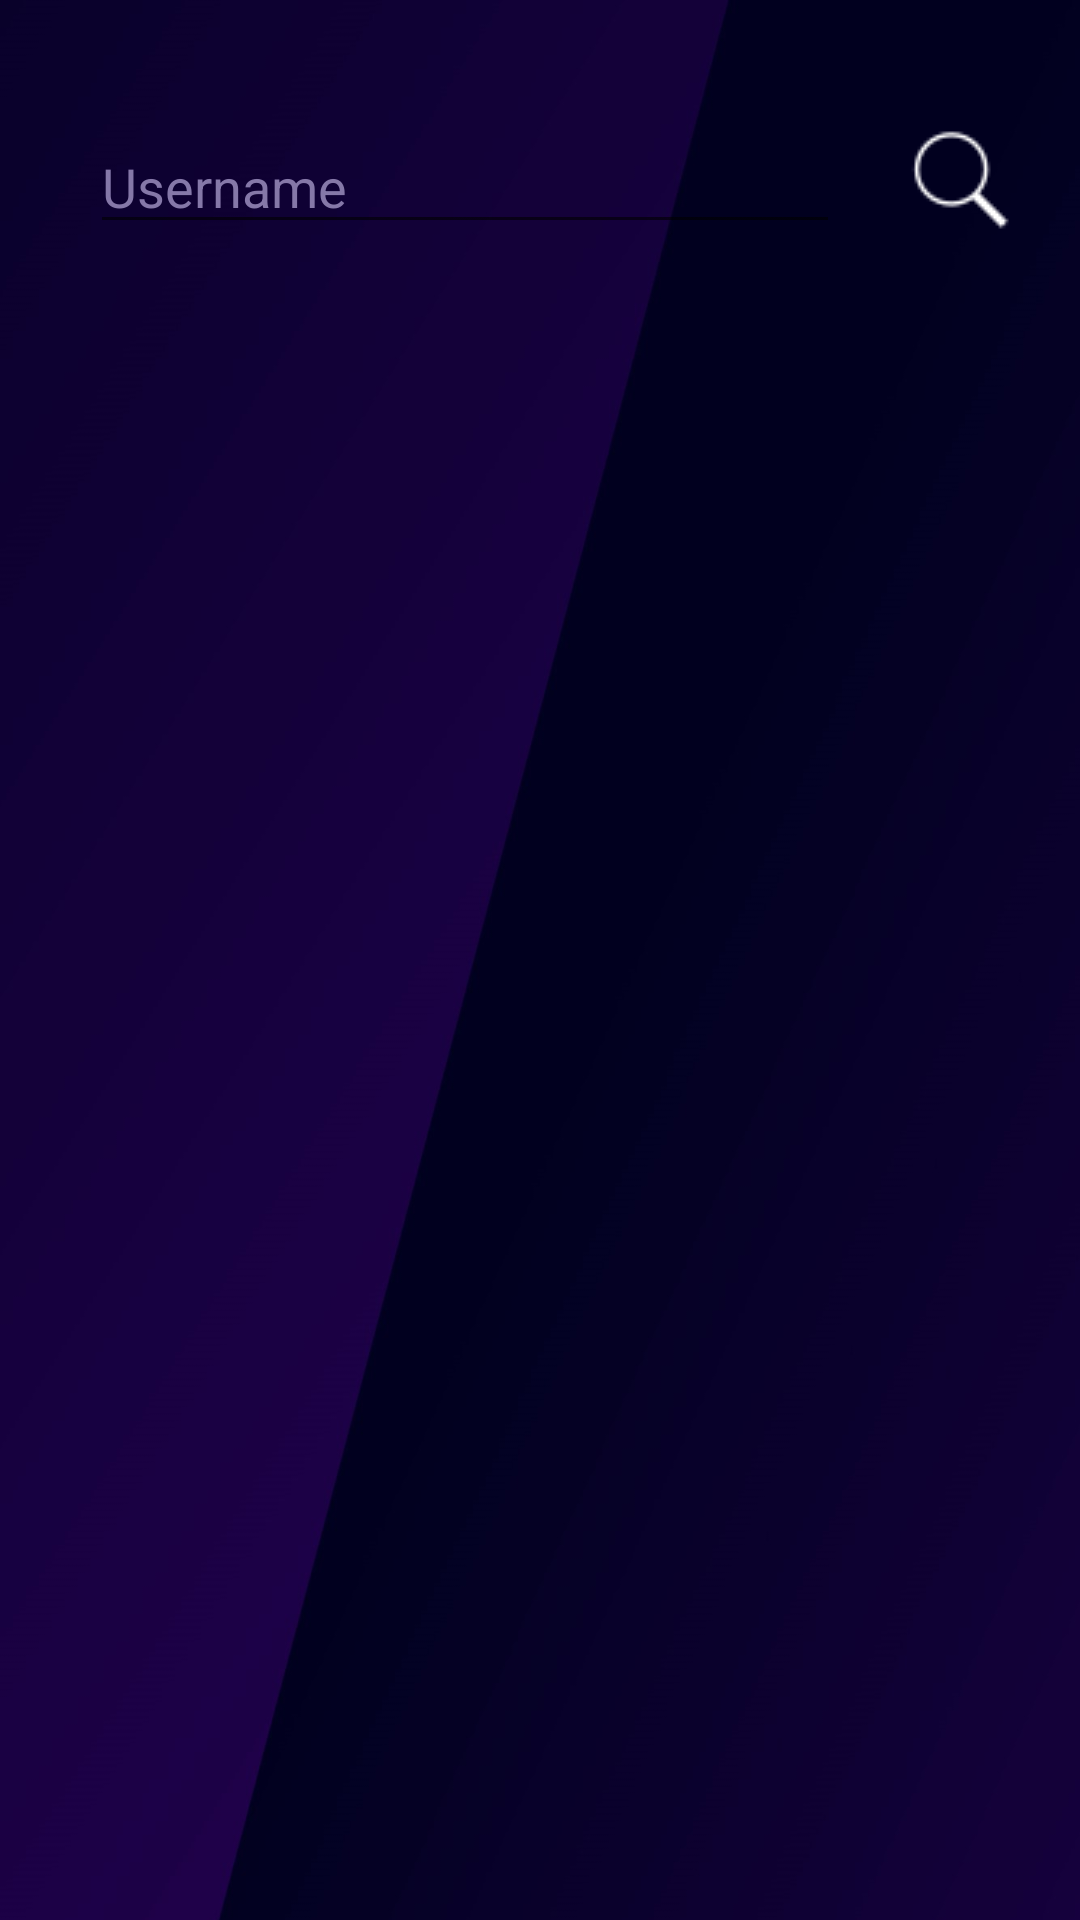

Locate icon controls on the screen. Image size 1080 × 1920, boxes as (x1, y1, x2, y2).
search: (914, 131, 1009, 229)
